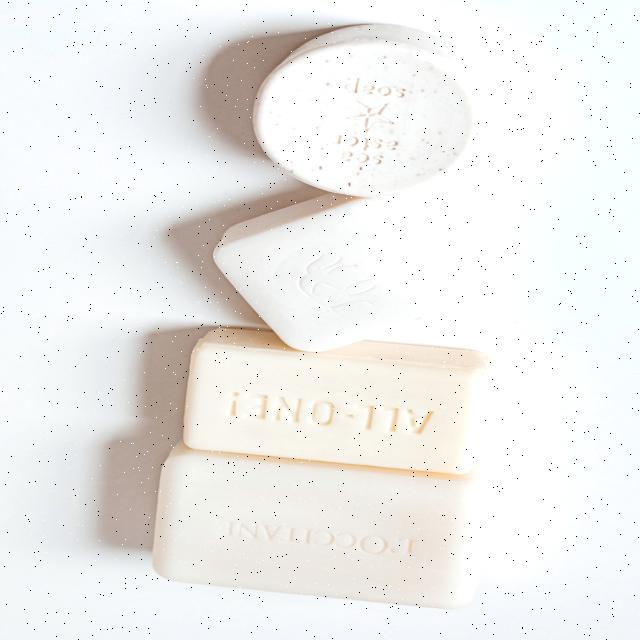soap: (142, 438, 518, 615), (167, 317, 512, 489), (194, 188, 486, 356), (240, 13, 472, 201)
